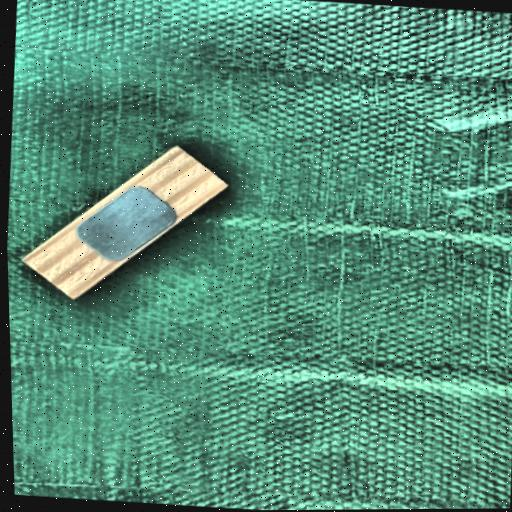objects: (21, 135, 228, 310)
